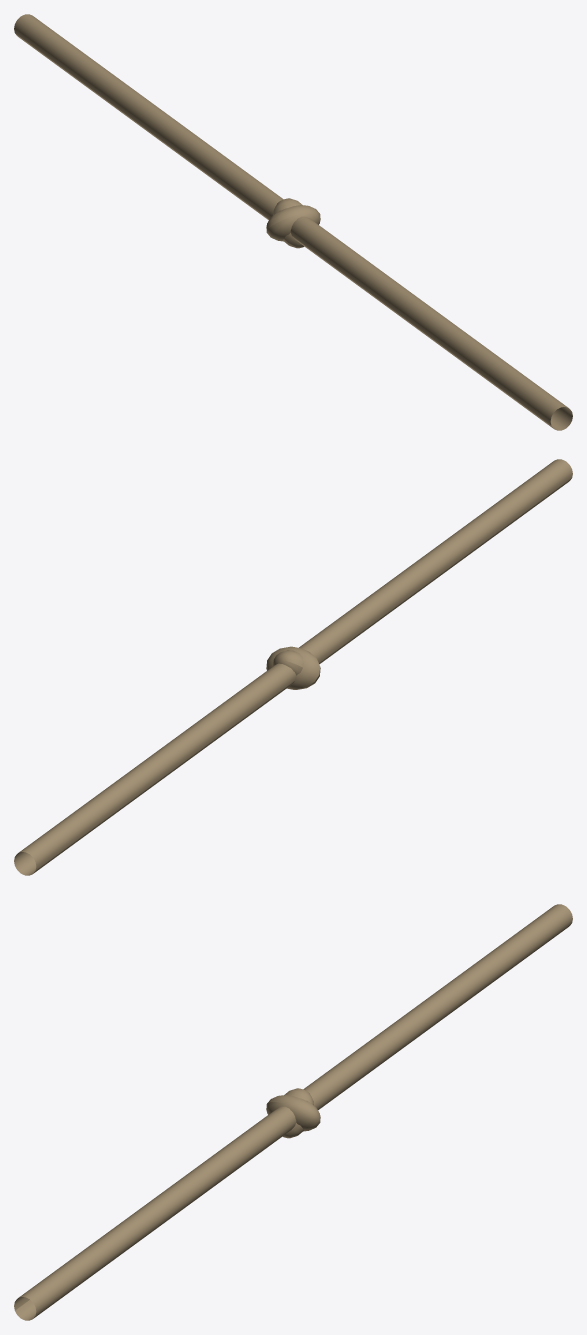
Rendered from rope.fbx.
3 views of the same model, one above another, from view 1: azimuth 30°, elevation 25°; view 2: azimuth 150°, elevation 25°; view 3: azimuth 330°, elevation 25° (orthographic).
Parts seen in each view (by area): view 1: Rope; view 2: Rope; view 3: Rope.
Part boxes in pixels (<box>): Rope: <box>14,14,572,430</box>; Rope: <box>14,459,572,875</box>; Rope: <box>14,904,572,1320</box>.
Bounding box in the file's own units: 367 × 264 × 6575.
